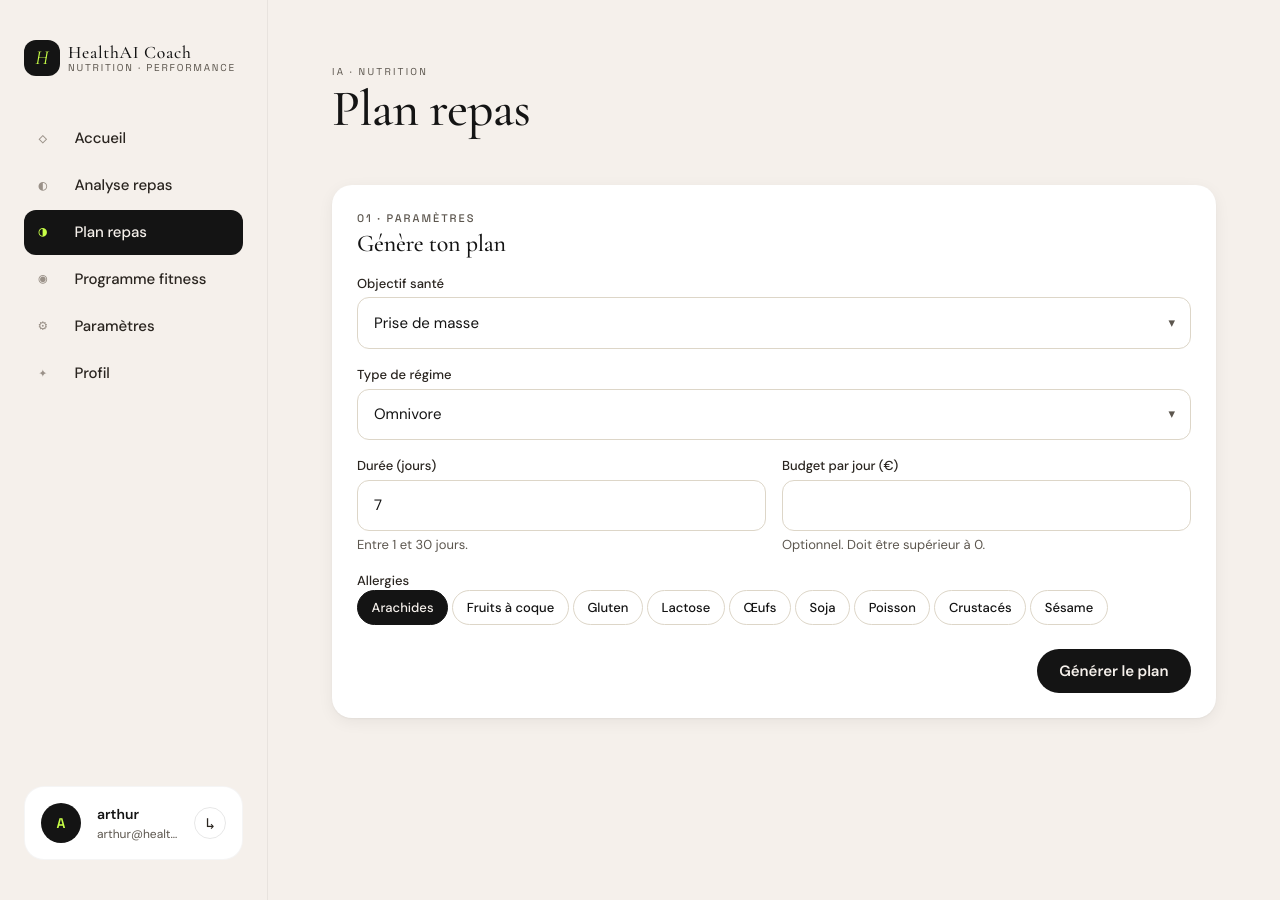
Test: MealPlanView › loading and result › clicking "Nouveau plan" returns to the form step
The image size is (1280, 900).
Submit the form with test id "meal-plan-form", box [357,274,1191,693]
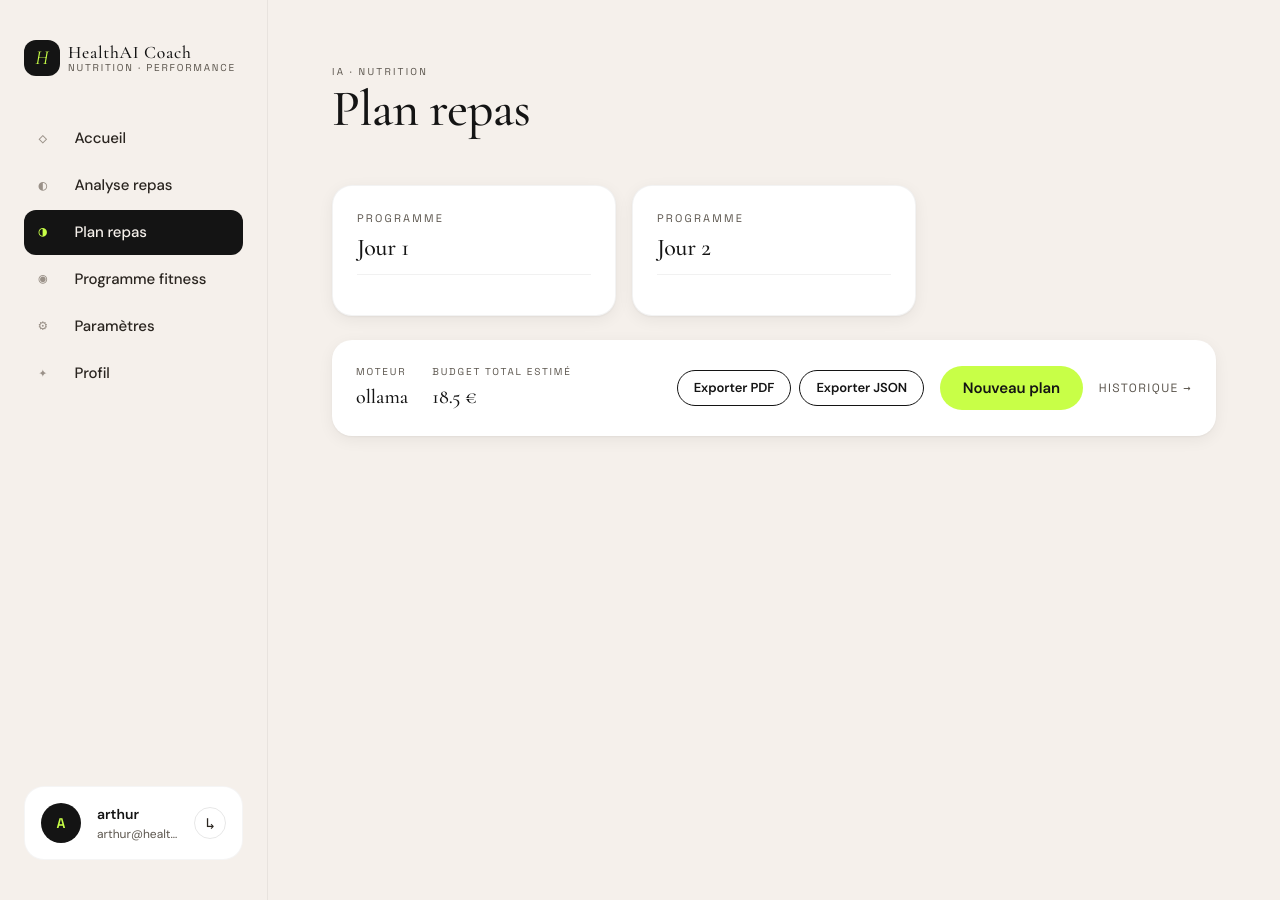
Expected: the button with test id "meal-plan-reset" is shown
Click the button with test id "meal-plan-reset": [1011, 388] box [940,366,1083,410]
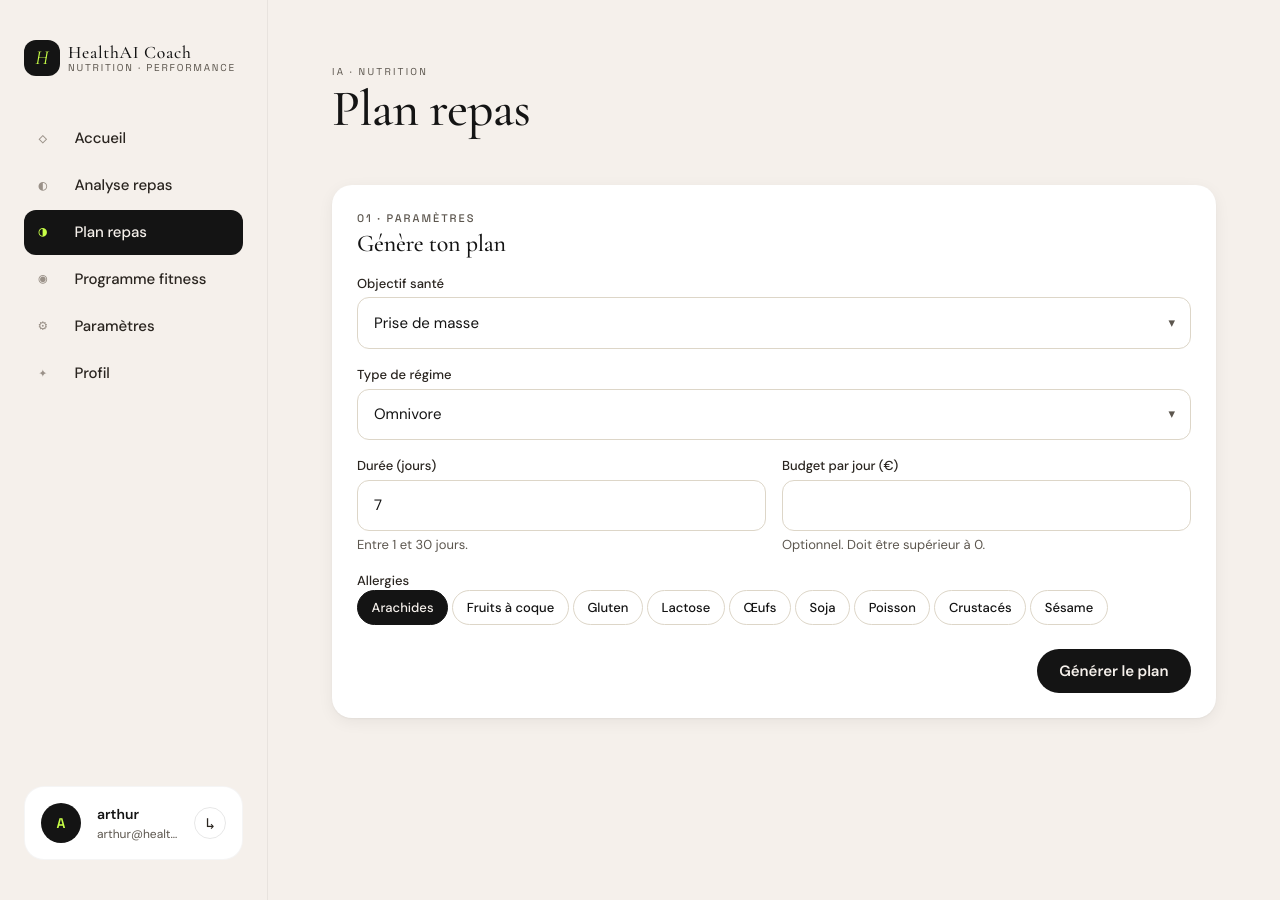
Expected: the form with test id "meal-plan-form" is shown, [357,274,1191,693]
